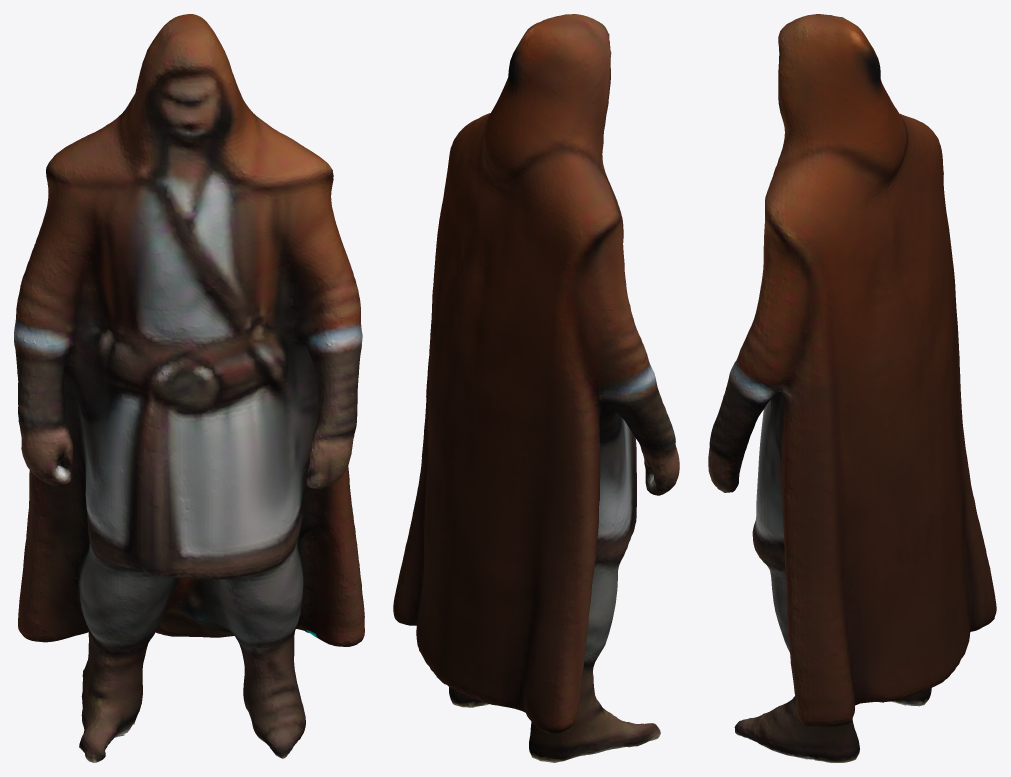
Rendered from mesh_with_colors.obj.
The picture shows the model from 3 angles, left to right: view 1: azimuth 30°, elevation 25°; view 2: azimuth 150°, elevation 25°; view 3: azimuth 270°, elevation 25°; orthographic projection. The views are drawn at different scales.
Bounding box in the file's own units: 0.4743 × 1.05 × 0.395.
